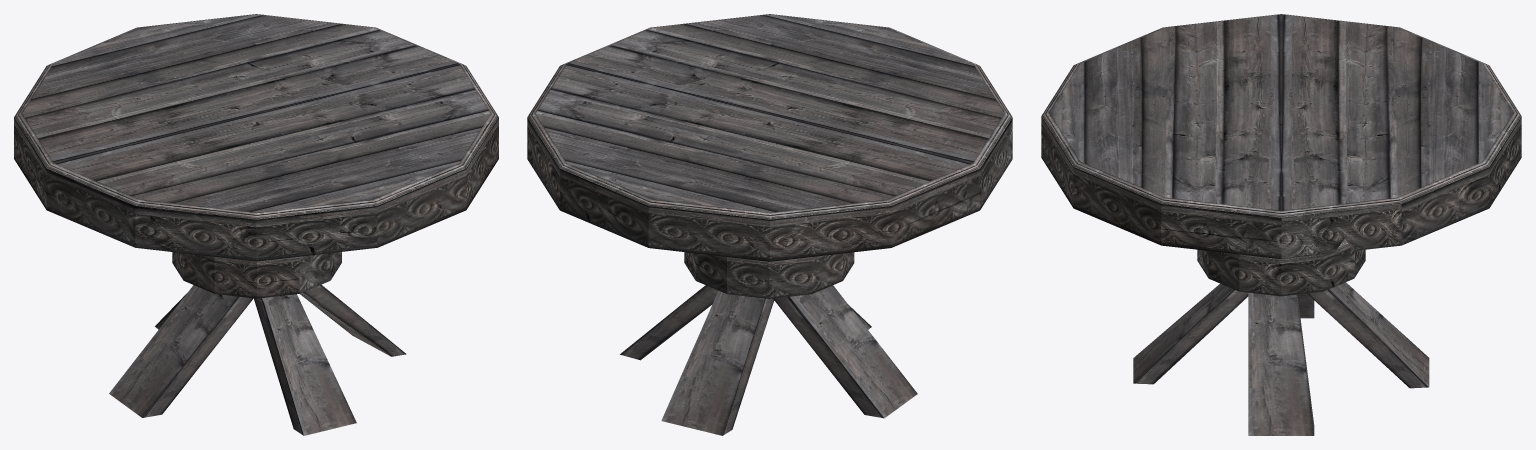
File: tavern_smalltable.dae
The picture shows the model from 3 angles, left to right: view 1: azimuth 30°, elevation 25°; view 2: azimuth 150°, elevation 25°; view 3: azimuth 270°, elevation 25°; orthographic projection.
Parts seen in each view (by area): view 1: Default_Layer; view 2: Default_Layer; view 3: Default_Layer.
Part boxes in pixels (x1,y1,x2,y2): Default_Layer: (14,14,498,435); Default_Layer: (527,14,1012,435); Default_Layer: (1041,14,1521,435).
Size of the model in its own units: 1.36 by 0.8081 by 1.36.
